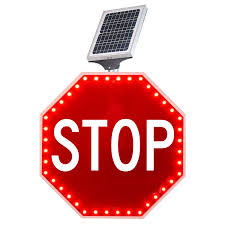stop sign: (41, 71, 185, 217)
